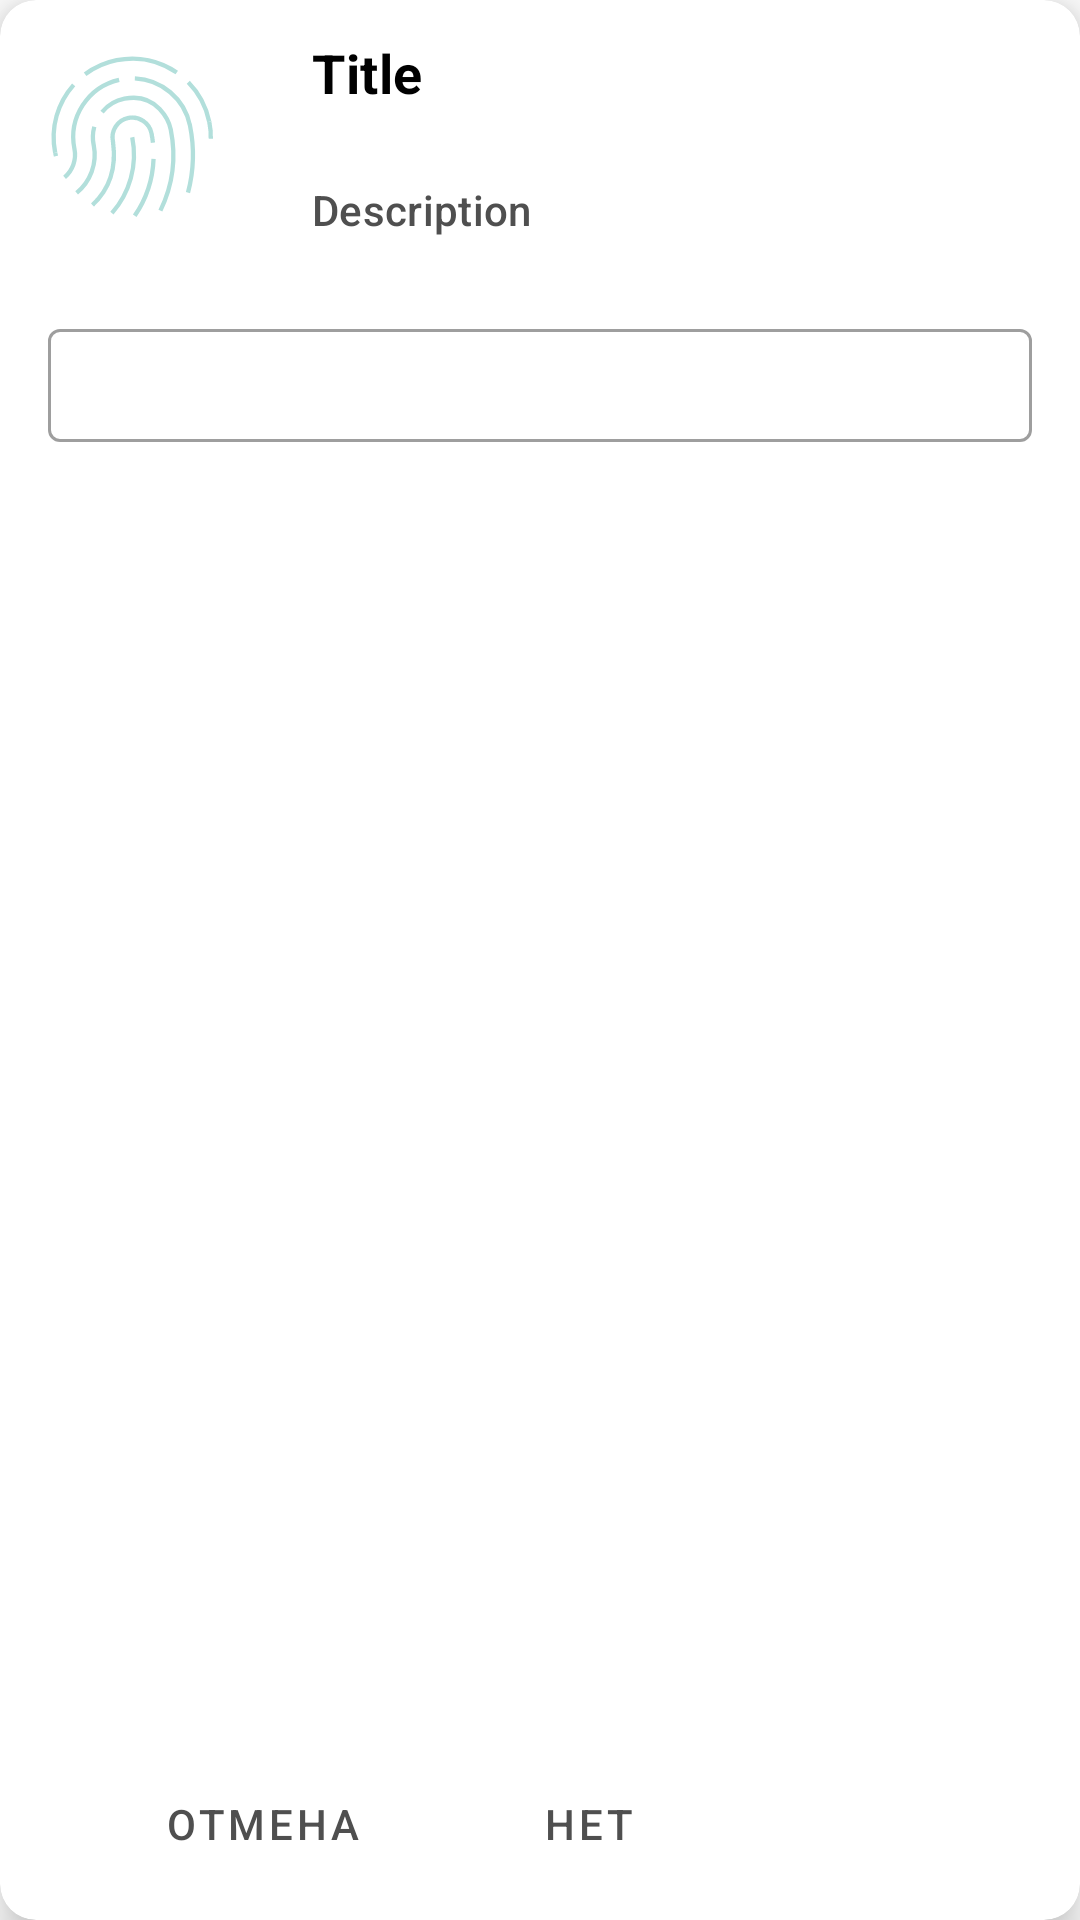

Screen size 1080w x 1920h. Icon name, then its center in pixels as [x,y]:
fingerprint: [132,136]
